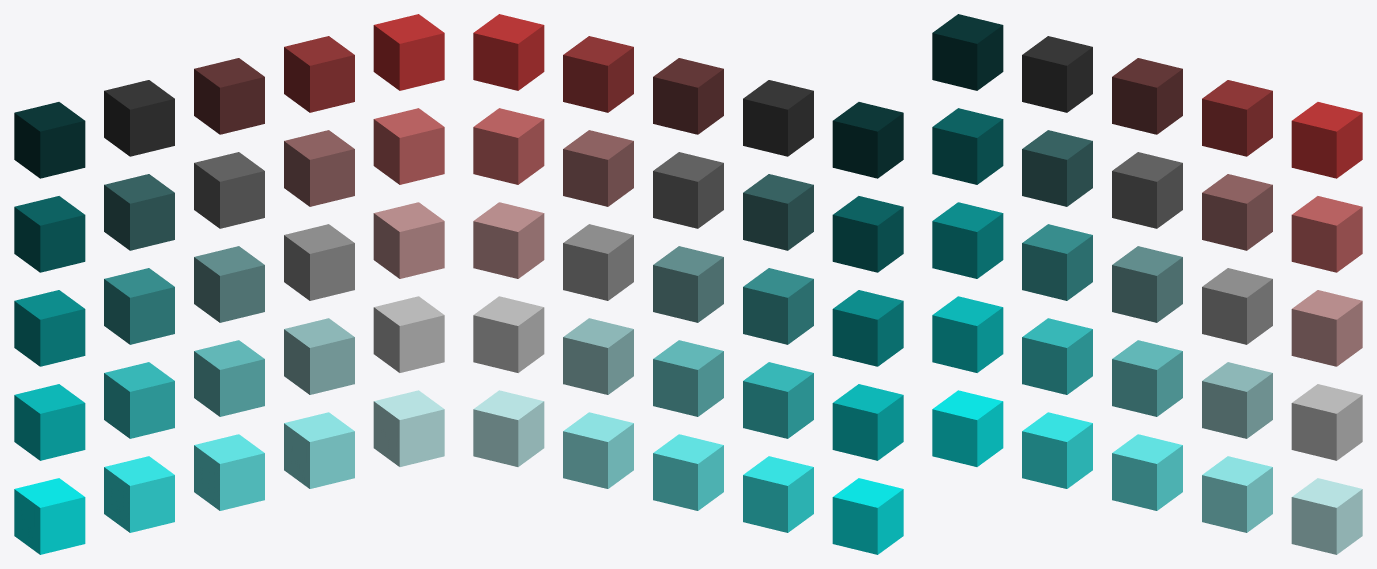
File: cubes_with_material.fbx
3 views of the same model, side by side, from view 1: azimuth 30°, elevation 25°; view 2: azimuth 150°, elevation 25°; view 3: azimuth 330°, elevation 25° (orthographic).
Parts seen in each view (by area): view 1: ｵﾌﾞｼﾞｪｸﾄ_1, ｵﾌﾞｼﾞｪｸﾄ_3, ｵﾌﾞｼﾞｪｸﾄ_23, ｵﾌﾞｼﾞｪｸﾄ_25, ｵﾌﾞｼﾞｪｸﾄ_2, ｵﾌﾞｼﾞｪｸﾄ_4, ｵﾌﾞｼﾞｪｸﾄ_5, ｵﾌﾞｼﾞｪｸﾄ_21, ｵﾌﾞｼﾞｪｸﾄ_22, ｵﾌﾞｼﾞｪｸﾄ_24, ｵﾌﾞｼﾞｪｸﾄ_11, ｵﾌﾞｼﾞｪｸﾄ_12 (+13 smaller); view 2: ｵﾌﾞｼﾞｪｸﾄ_1, ｵﾌﾞｼﾞｪｸﾄ_3, ｵﾌﾞｼﾞｪｸﾄ_23, ｵﾌﾞｼﾞｪｸﾄ_25, ｵﾌﾞｼﾞｪｸﾄ_2, ｵﾌﾞｼﾞｪｸﾄ_4, ｵﾌﾞｼﾞｪｸﾄ_5, ｵﾌﾞｼﾞｪｸﾄ_21, ｵﾌﾞｼﾞｪｸﾄ_22, ｵﾌﾞｼﾞｪｸﾄ_24, ｵﾌﾞｼﾞｪｸﾄ_11, ｵﾌﾞｼﾞｪｸﾄ_12 (+13 smaller); view 3: ｵﾌﾞｼﾞｪｸﾄ_3, ｵﾌﾞｼﾞｪｸﾄ_5, ｵﾌﾞｼﾞｪｸﾄ_21, ｵﾌﾞｼﾞｪｸﾄ_23, ｵﾌﾞｼﾞｪｸﾄ_1, ｵﾌﾞｼﾞｪｸﾄ_2, ｵﾌﾞｼﾞｪｸﾄ_4, ｵﾌﾞｼﾞｪｸﾄ_22, ｵﾌﾞｼﾞｪｸﾄ_24, ｵﾌﾞｼﾞｪｸﾄ_25, ｵﾌﾞｼﾞｪｸﾄ_11, ｵﾌﾞｼﾞｪｸﾄ_12 (+13 smaller).
Part boxes in pixels (x1,y1,x2,y2): ｵﾌﾞｼﾞｪｸﾄ_1: (373,14,444,90); ｵﾌﾞｼﾞｪｸﾄ_3: (373,202,444,278); ｵﾌﾞｼﾞｪｸﾄ_23: (14,290,85,366); ｵﾌﾞｼﾞｪｸﾄ_25: (14,478,85,554); ｵﾌﾞｼﾞｪｸﾄ_2: (373,108,444,184); ｵﾌﾞｼﾞｪｸﾄ_4: (373,296,444,372); ｵﾌﾞｼﾞｪｸﾄ_5: (373,390,444,466); ｵﾌﾞｼﾞｪｸﾄ_21: (14,102,85,178); ｵﾌﾞｼﾞｪｸﾄ_22: (14,196,85,272); ｵﾌﾞｼﾞｪｸﾄ_24: (14,384,85,460); ｵﾌﾞｼﾞｪｸﾄ_11: (194,58,264,134); ｵﾌﾞｼﾞｪｸﾄ_12: (194,152,264,228); ｵﾌﾞｼﾞｪｸﾄ_1: (473,14,544,90); ｵﾌﾞｼﾞｪｸﾄ_3: (473,202,544,278); ｵﾌﾞｼﾞｪｸﾄ_23: (832,290,903,366); ｵﾌﾞｼﾞｪｸﾄ_25: (832,478,903,554); ｵﾌﾞｼﾞｪｸﾄ_2: (473,108,544,184); ｵﾌﾞｼﾞｪｸﾄ_4: (473,296,544,372); ｵﾌﾞｼﾞｪｸﾄ_5: (473,390,544,466); ｵﾌﾞｼﾞｪｸﾄ_21: (832,102,903,178); ｵﾌﾞｼﾞｪｸﾄ_22: (832,196,903,272); ｵﾌﾞｼﾞｪｸﾄ_24: (832,384,903,460); ｵﾌﾞｼﾞｪｸﾄ_11: (653,58,723,134); ｵﾌﾞｼﾞｪｸﾄ_12: (653,152,723,228); ｵﾌﾞｼﾞｪｸﾄ_3: (1291,290,1362,366); ｵﾌﾞｼﾞｪｸﾄ_5: (1291,478,1362,554); ｵﾌﾞｼﾞｪｸﾄ_21: (932,14,1003,90); ｵﾌﾞｼﾞｪｸﾄ_23: (932,202,1003,278); ｵﾌﾞｼﾞｪｸﾄ_1: (1291,102,1362,178); ｵﾌﾞｼﾞｪｸﾄ_2: (1291,196,1362,272); ｵﾌﾞｼﾞｪｸﾄ_4: (1291,384,1362,460); ｵﾌﾞｼﾞｪｸﾄ_22: (932,108,1003,184); ｵﾌﾞｼﾞｪｸﾄ_24: (932,296,1003,372); ｵﾌﾞｼﾞｪｸﾄ_25: (932,390,1003,466); ｵﾌﾞｼﾞｪｸﾄ_11: (1112,58,1182,134); ｵﾌﾞｼﾞｪｸﾄ_12: (1112,152,1182,228).
Bounding box in the file's own units: 9 × 9 × 1.
